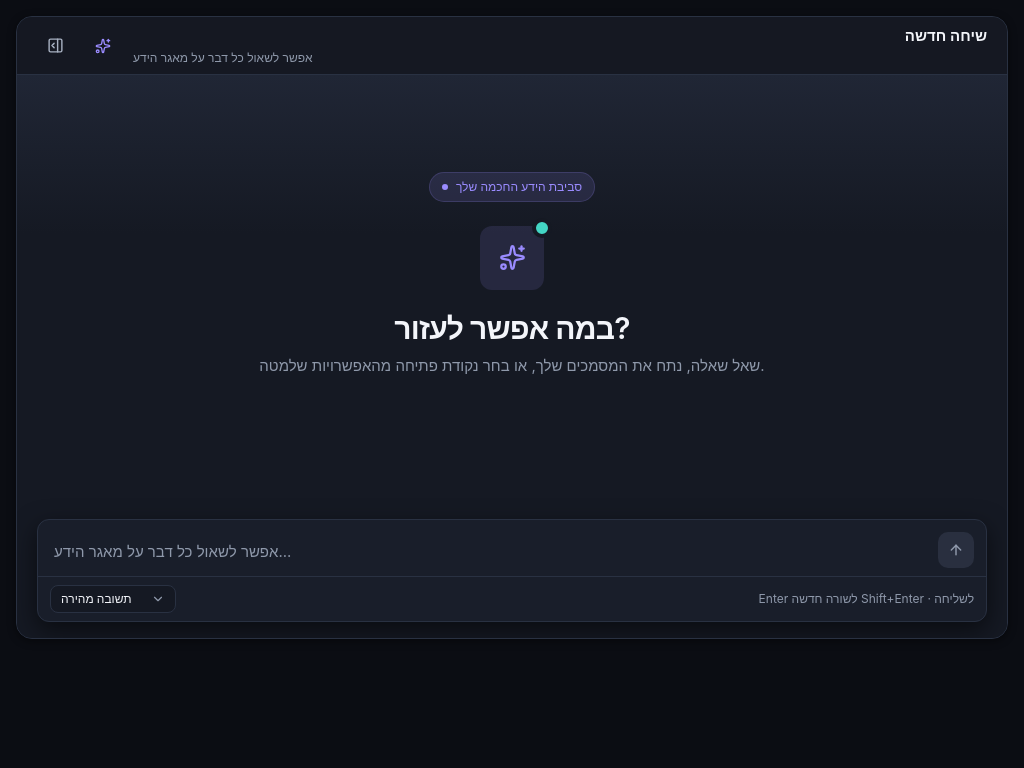
Scenario: mobile chat history drawer › opens under a Hebrew accessible name and closes under another
The image size is (1024, 768).
Step 1. Click the button named "פתיחה או סגירה של היסטוריית השיחות" → (55, 46), box [37,28,73,64]
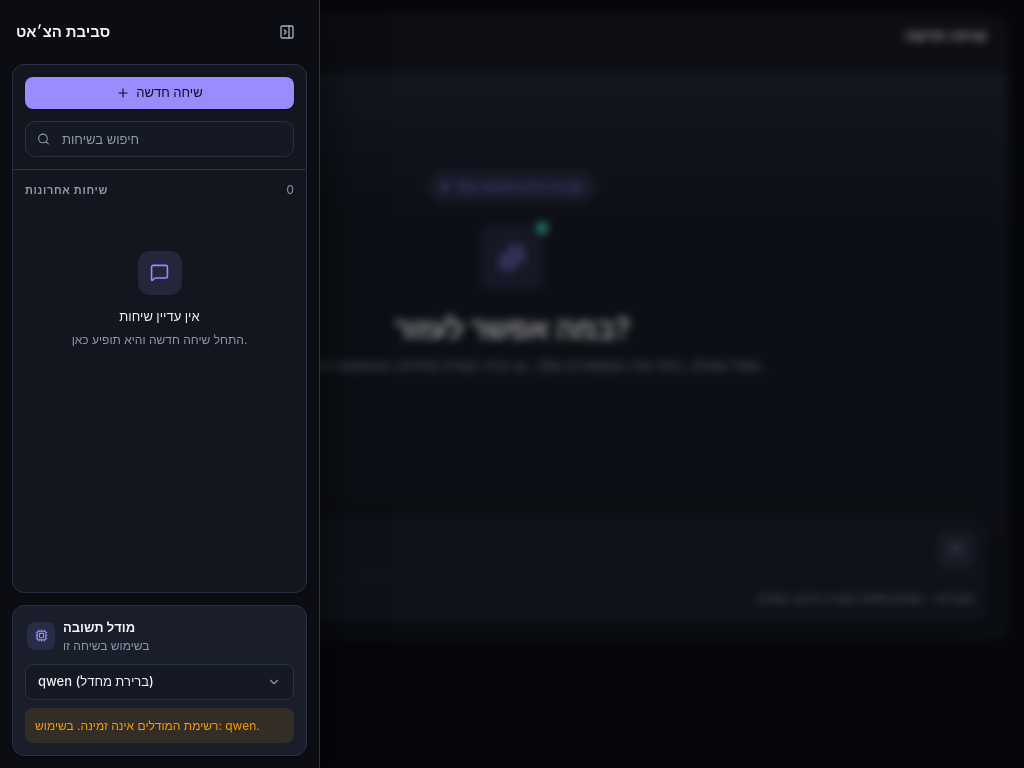
expect the text "סביבת הצ׳אט" is shown: met, box [16,21,110,43]
expect the button named "סגירת חלונית היסטוריית השיחות" is shown: met, box [271,16,303,48]
